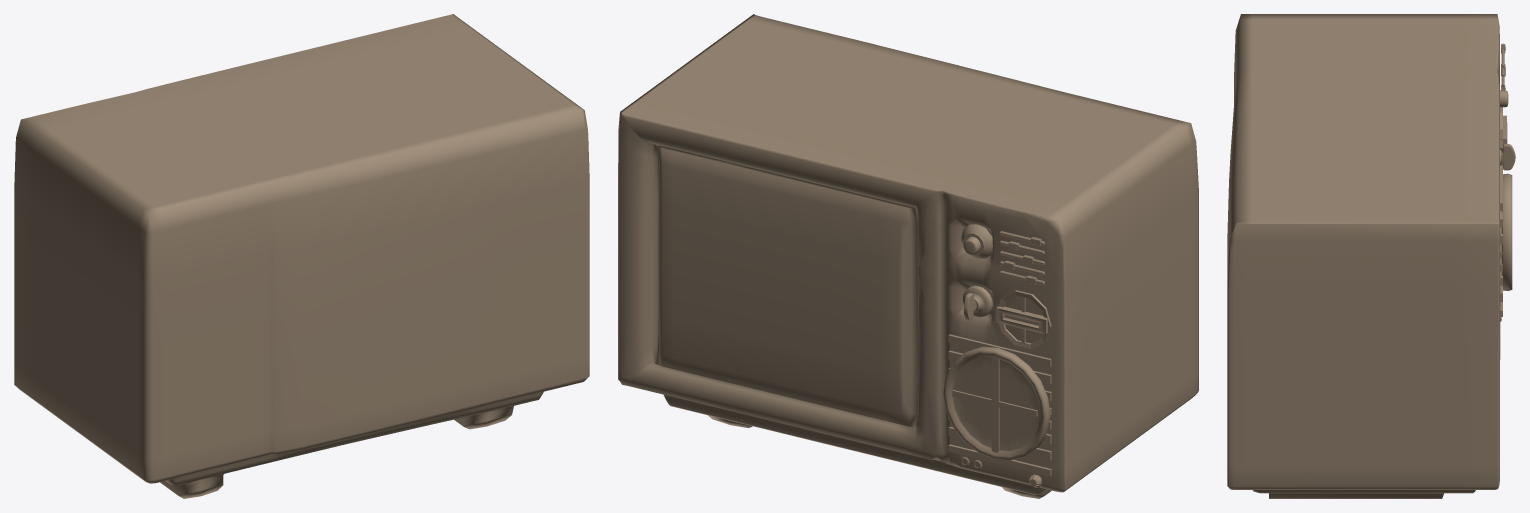
The picture shows the model from 3 angles, left to right: view 1: azimuth 30°, elevation 25°; view 2: azimuth 150°, elevation 25°; view 3: azimuth 270°, elevation 25°; orthographic projection. The views are drawn at different scales.
Visible parts, largest first — view 1: TV; view 2: TV, bigring, cube_end, bigring_cube, decoration, ring1, line8, bottle_butt_1; view 3: TV, bigring, cube_end.
Boxes of the visible parts, left/top/right/bottom form: TV: left=14, top=14, right=589, bottom=498; TV: left=618, top=14, right=1198, bottom=498; bigring: left=943, top=346, right=1050, bottom=460; cube_end: left=948, top=334, right=1051, bottom=476; bigring_cube: left=952, top=356, right=1037, bottom=452; decoration: left=996, top=306, right=1048, bottom=334; ring1: left=999, top=290, right=1051, bottom=349; line8: left=999, top=231, right=1044, bottom=284; bottle_butt_1: left=961, top=224, right=992, bottom=258; TV: left=1227, top=14, right=1500, bottom=498; bigring: left=1501, top=173, right=1512, bottom=290; cube_end: left=1500, top=165, right=1502, bottom=316.
Bounding box in the file's own units: 122 × 81.76 × 69.55.
